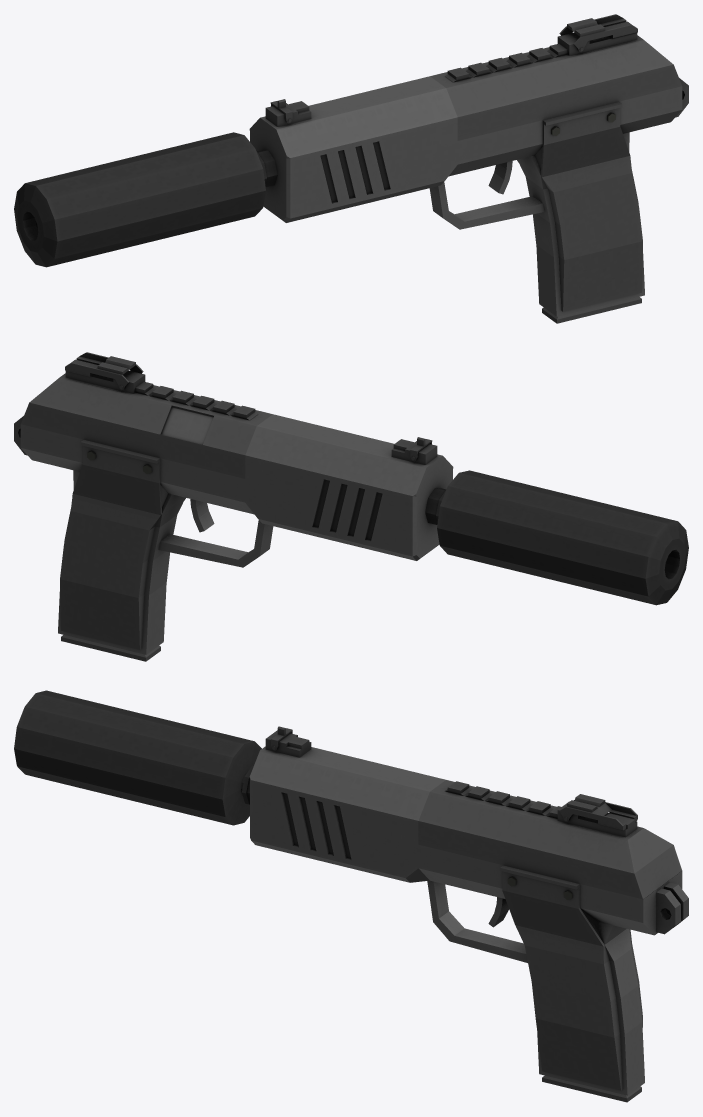
File: Pistol_3.fbx
The picture shows the model from 3 angles, top to bottom: view 1: azimuth 30°, elevation 25°; view 2: azimuth 150°, elevation 25°; view 3: azimuth 330°, elevation 25°; orthographic projection.
Parts seen in each view (by area): view 1: pistol_3; view 2: pistol_3; view 3: pistol_3.
Boxes of the visible parts, x1,y1,x2,y2 form: pistol_3: (14, 14, 688, 323); pistol_3: (14, 352, 688, 661); pistol_3: (14, 690, 688, 1102).
Size of the model in its own units: 1917 by 797 by 234.
